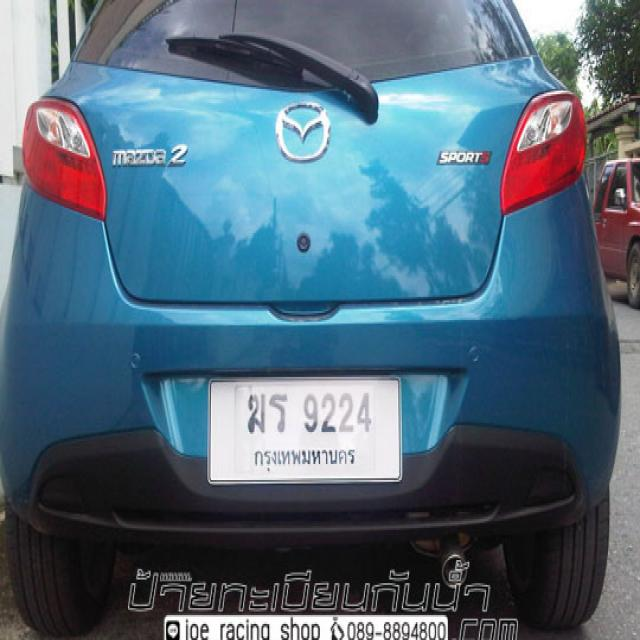license_plate: (206, 368, 405, 488)
